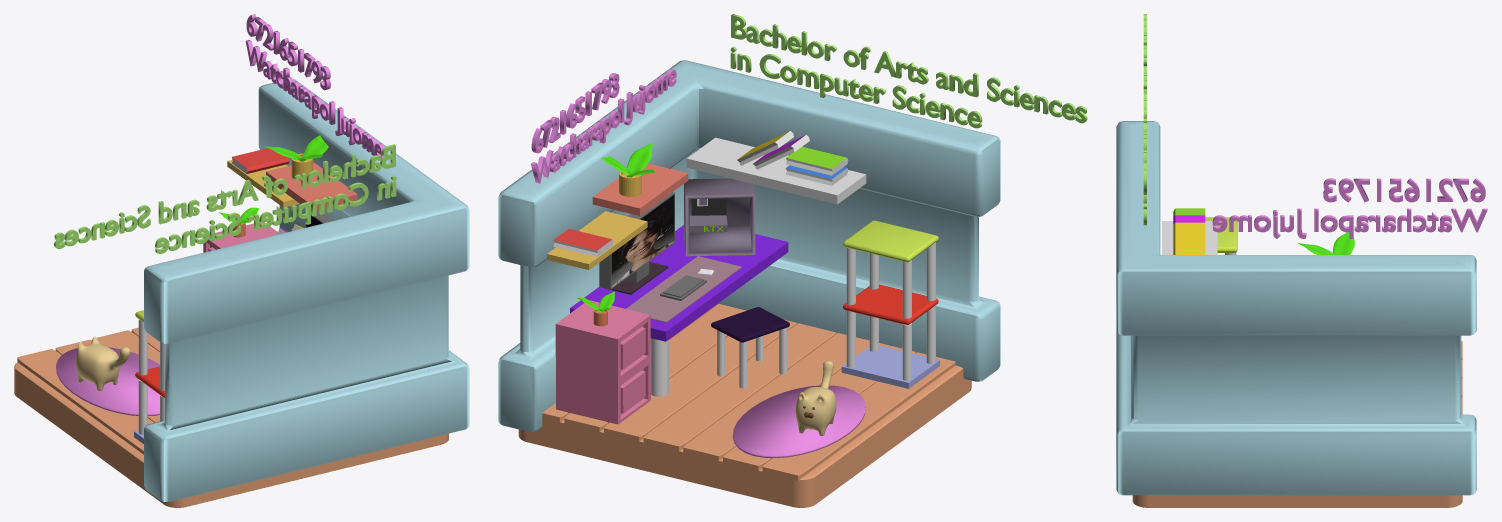
The model's file is FinalRoom.glb.
3 renders of one model, left to right at view 1: azimuth 30°, elevation 25°; view 2: azimuth 150°, elevation 25°; view 3: azimuth 270°, elevation 25°, orthographic. The views are drawn at different scales.
Visible parts, largest first — view 1: Cube, Text.002, Cube.001, Text.001, Cube.002, Cylinder.006, Sphere.002, Cube.011, Cube.021, Cube.005, Cube.010, Cylinder.011; view 2: Cube, Cube.002, Cube.001, Cube.005, Text.002, Cylinder.006, Cube.003, Text.001, Cube.006, Cube.012, Cube.007, Plane.009 (+11 smaller); view 3: Cube, Text.001, Cube.001, Cube.019, Text.002, Cube.012, Cube.025.
Part boxes in pixels (x1,y1,x2,y2): Cube: (144, 79, 469, 501); Text.002: (54, 144, 396, 253); Cube.001: (14, 362, 448, 507); Text.001: (245, 14, 384, 158); Cube.002: (17, 327, 159, 454); Cylinder.006: (56, 347, 159, 415); Sphere.002: (75, 336, 130, 390); Cube.011: (266, 162, 357, 211); Cube.021: (232, 146, 289, 173); Cube.005: (203, 222, 277, 252); Cube.010: (227, 160, 299, 207); Cylinder.011: (138, 319, 147, 375); Cube: (498, 60, 1000, 432); Cube.002: (542, 304, 955, 480); Cube.001: (518, 365, 971, 507); Cube.005: (555, 300, 650, 424); Text.002: (730, 14, 1087, 128); Cylinder.006: (732, 385, 865, 458); Cube.003: (570, 225, 788, 341); Text.001: (531, 69, 676, 183); Cube.006: (684, 178, 755, 256); Cube.012: (686, 137, 866, 204); Cube.007: (626, 256, 741, 322); Plane.009: (611, 195, 674, 287); Cube: (1116, 121, 1476, 495); Text.001: (1212, 178, 1487, 238); Cube.001: (1132, 495, 1462, 507); Cube.019: (1173, 222, 1205, 254); Text.002: (1143, 14, 1146, 225); Cube.012: (1162, 221, 1217, 254); Cube.025: (1205, 217, 1237, 252).
Bounding box in the file's own units: 14.24 × 10.51 × 11.24.
Materials: 50 (1 with a texture image).
